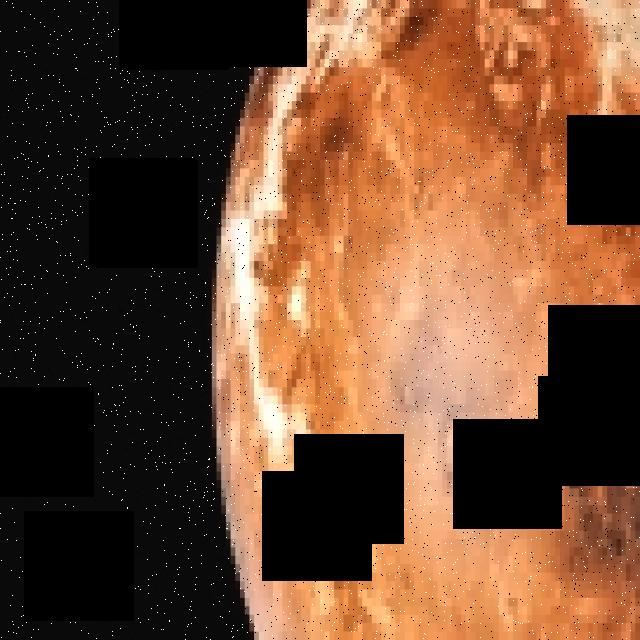Venus: (212, 0, 640, 640)
